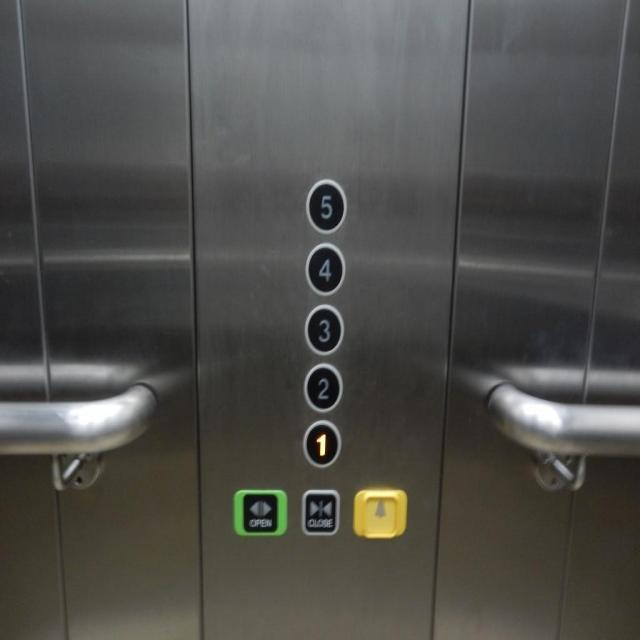1: (300, 418, 341, 468)
2: (302, 361, 344, 411)
3: (304, 303, 344, 355)
4: (304, 241, 346, 295)
5: (304, 177, 346, 234)
alarm: (352, 488, 408, 540)
close: (301, 487, 340, 535)
open: (232, 488, 287, 538)
